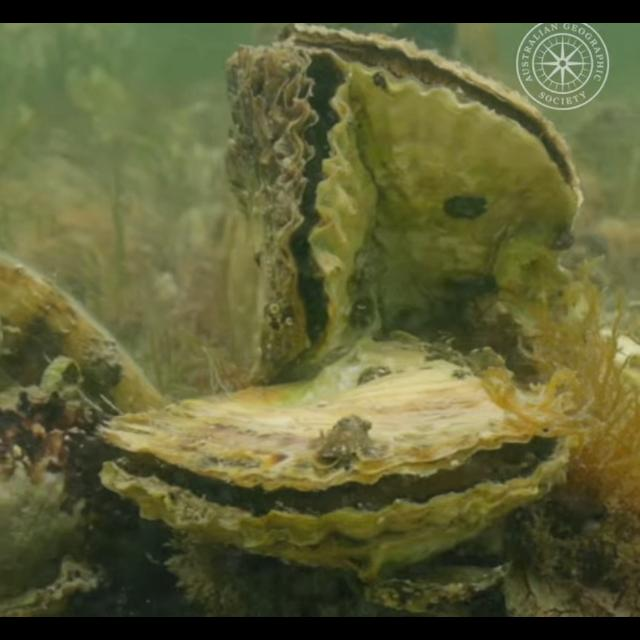Oyster-Closed: (0, 250, 168, 432)
Oyster-Open: (95, 334, 570, 584), (276, 24, 580, 352), (223, 44, 377, 390)
